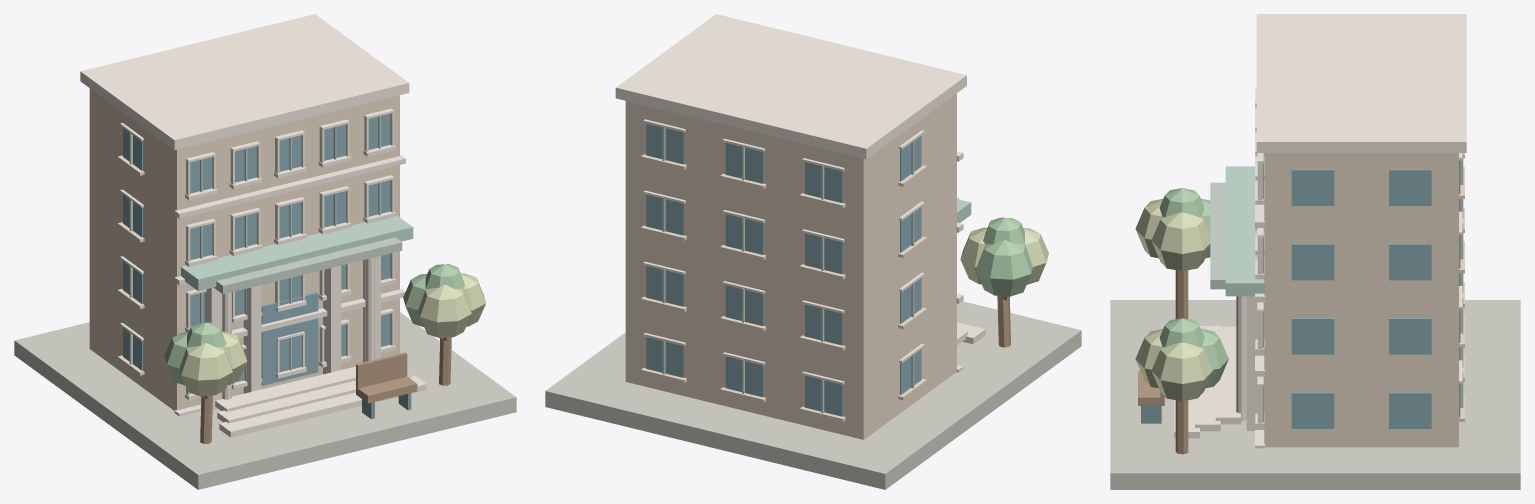
Rendered from dot-tpl-office.glb.
3 views of the same model, side by side, from view 1: azimuth 30°, elevation 25°; view 2: azimuth 150°, elevation 25°; view 3: azimuth 270°, elevation 25° (orthographic). The views are drawn at different scales.
Visible parts, largest first — view 1: paving; view 2: paving; view 3: paving.
Boxes of the visible parts, x1,y1,x2,y2 form: paving: [14, 14, 516, 489]; paving: [545, 14, 1081, 489]; paving: [1110, 14, 1520, 489].
Bounding box in the file's own units: 4 × 3.5 × 4.
1 material, 1 textured.
